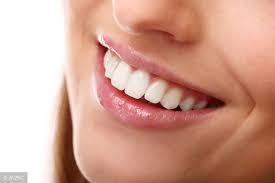normal: (122, 68, 149, 99), (109, 61, 132, 89), (143, 78, 168, 103), (159, 86, 182, 109), (104, 56, 121, 79), (180, 96, 194, 111)
